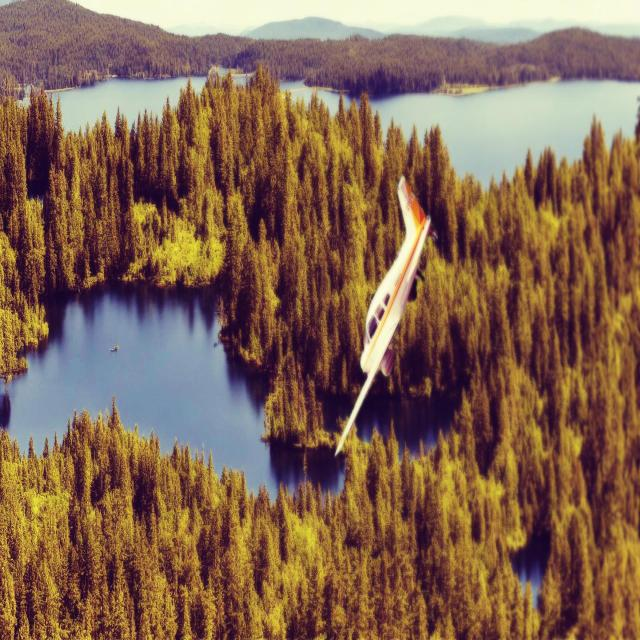airplane: (334, 174, 437, 457)
